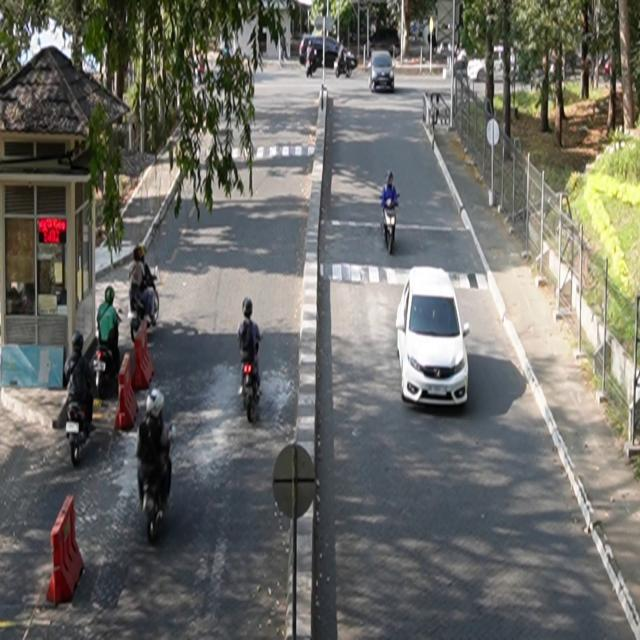car: (397, 266, 471, 408), (370, 51, 395, 93)
